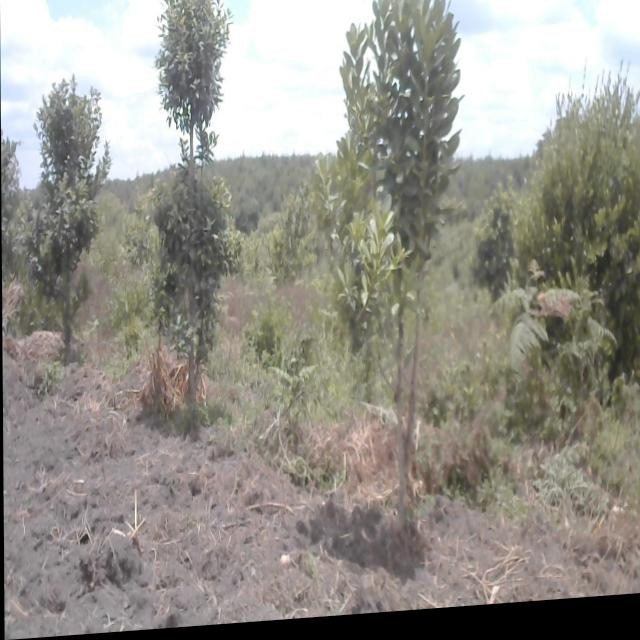Salix alba: (510, 72, 640, 438)
other: (313, 0, 463, 530), (150, 0, 246, 415), (21, 64, 111, 356), (471, 181, 517, 320)
